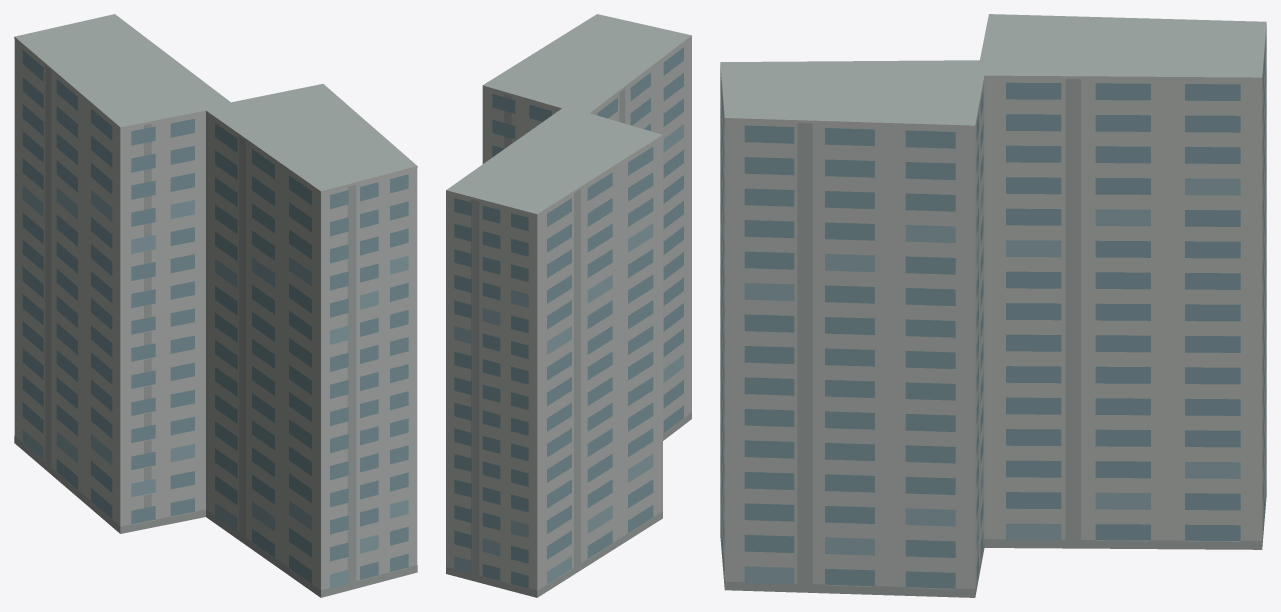
Rendered from residential-546a20c6-d060-4dde-9b2a-db24aac8b557.glb.
3 renders of one model, left to right at view 1: azimuth 30°, elevation 25°; view 2: azimuth 150°, elevation 25°; view 3: azimuth 270°, elevation 25°, orthographic. The views are drawn at different scales.
Visible parts, largest first — view 1: residential-546a20c6-d060-4dde-9b2a-db24aac8b557.tmp; view 2: residential-546a20c6-d060-4dde-9b2a-db24aac8b557.tmp; view 3: residential-546a20c6-d060-4dde-9b2a-db24aac8b557.tmp.
Boxes of the visible parts, x1,y1,x2,y2 form: residential-546a20c6-d060-4dde-9b2a-db24aac8b557.tmp: [14, 14, 417, 597]; residential-546a20c6-d060-4dde-9b2a-db24aac8b557.tmp: [446, 14, 691, 597]; residential-546a20c6-d060-4dde-9b2a-db24aac8b557.tmp: [720, 14, 1266, 597].
Size of the model in its own units: 20.8 by 41 by 43.
